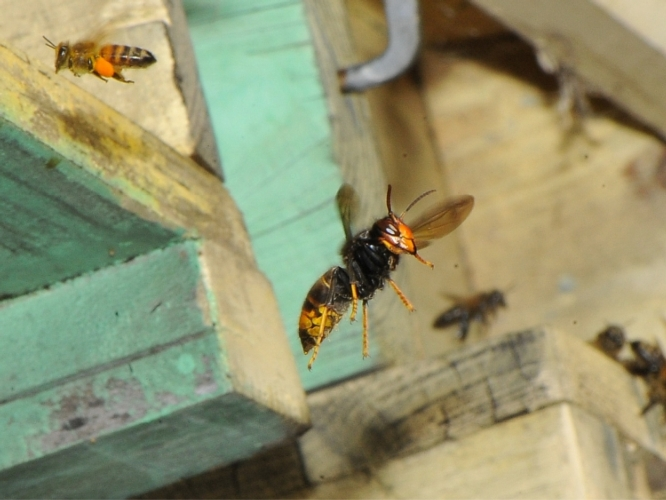bee: (28, 29, 162, 89)
hornet: (284, 182, 430, 367)
